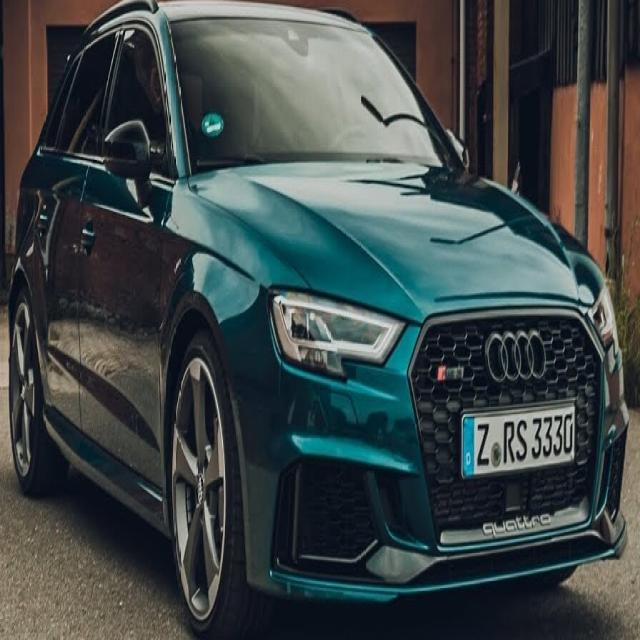green: (14, 11, 640, 640)
